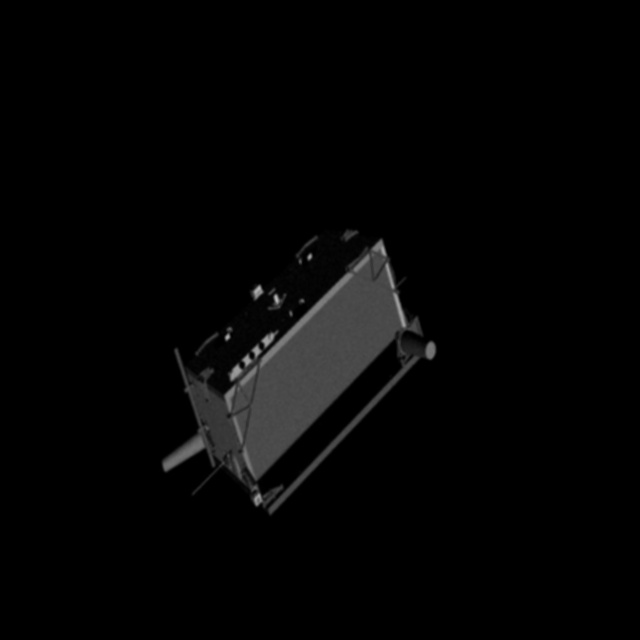medium_debris: (133, 196, 456, 530)
